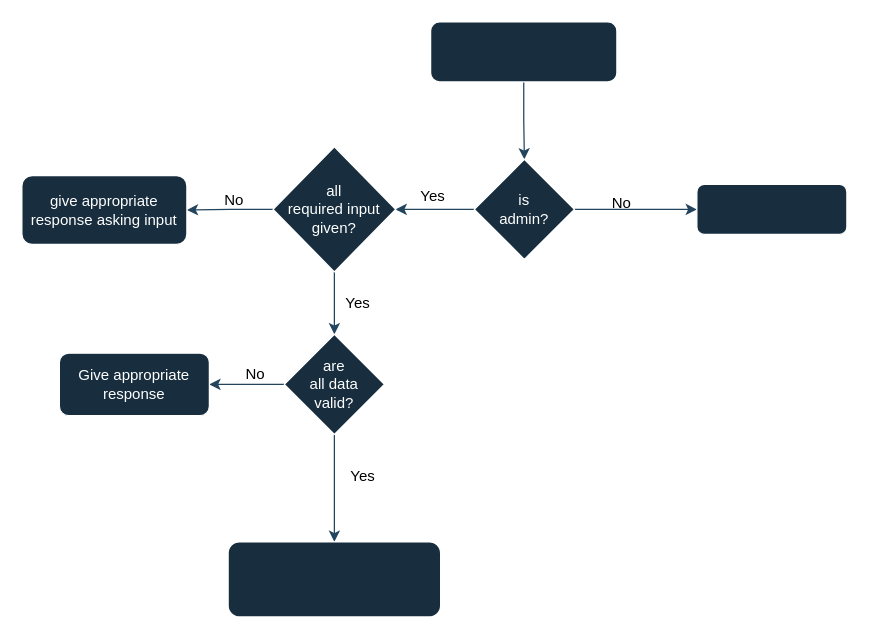
This 869x639 diagram has some shape labels left out. The centre of each missing label's shape, as x and y in pixels:
"Course Updated" goes at point 334,579.
"Edit Course" goes at point 523,51.
"Invalid User" goes at point 771,208.
